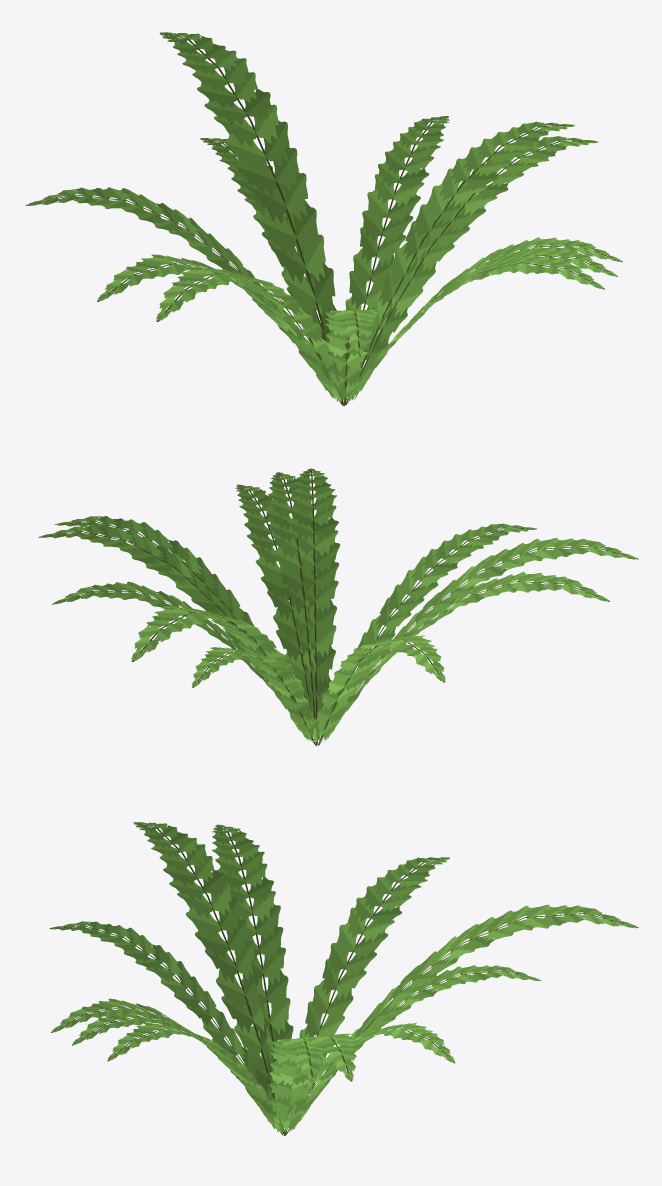
File: fern_2.glb
3 views of the same model, one above another, from view 1: azimuth 30°, elevation 25°; view 2: azimuth 150°, elevation 25°; view 3: azimuth 270°, elevation 25° (orthographic). The views are drawn at different scales.
Visible parts, largest first — view 1: fern_2; view 2: fern_2; view 3: fern_2.
Boxes of the visible parts, left/top/right/bottom form: fern_2: left=25, top=32, right=622, bottom=406; fern_2: left=38, top=468, right=638, bottom=746; fern_2: left=49, top=822, right=638, bottom=1135.
Bounding box in the file's own units: 1.6 × 0.6369 × 1.61.
Materials: 1 (1 with a texture image).
